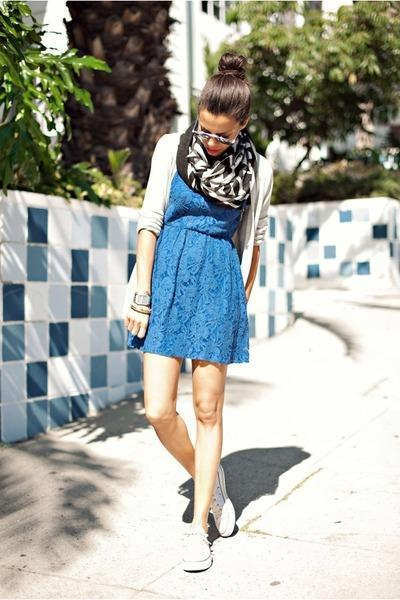dress: (132, 171, 249, 371)
jacket: (241, 210, 274, 251)
shirt: (132, 137, 275, 227)
shoe: (176, 477, 227, 569)
